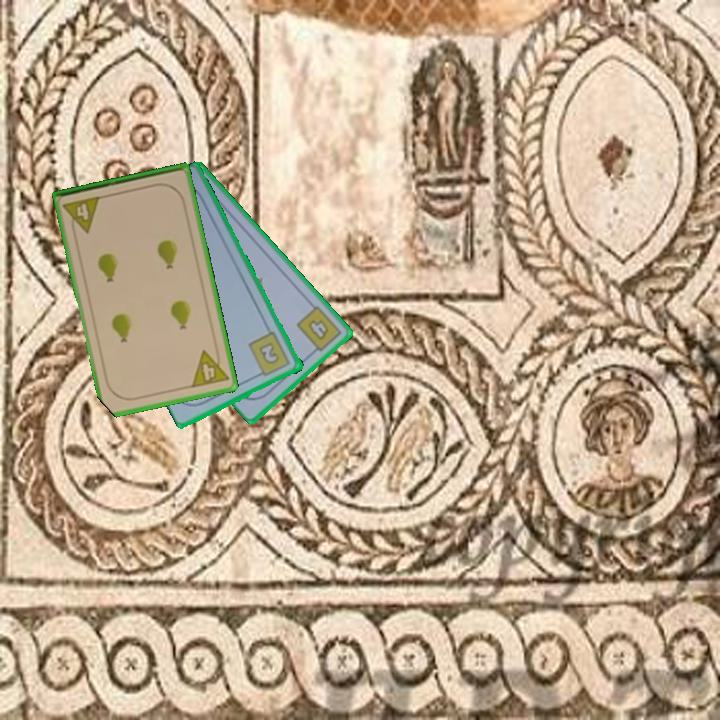2b: (245, 328, 294, 380)
4b: (293, 302, 345, 358)
4p: (188, 344, 232, 391), (59, 193, 104, 238)
